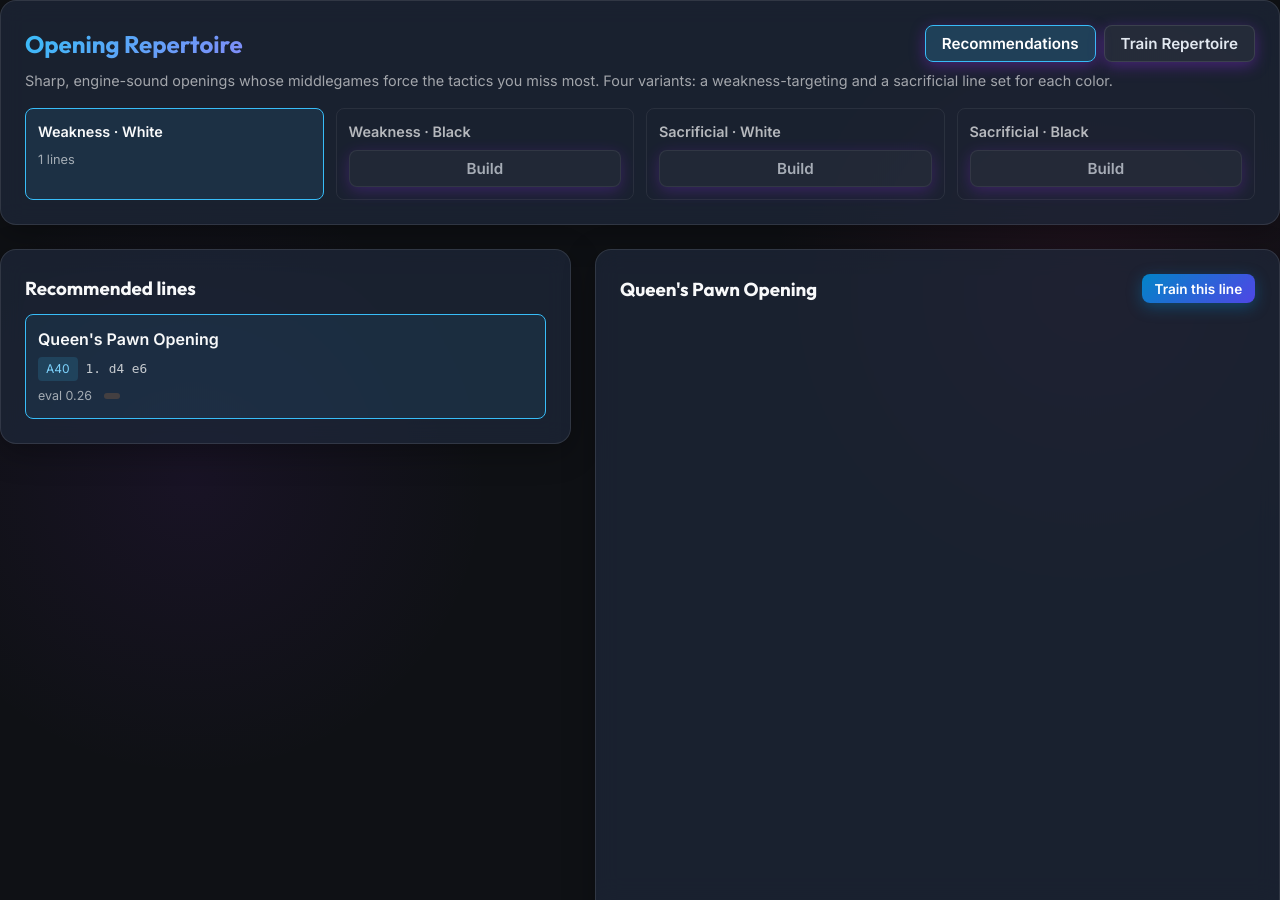
Scenario: RepertoireTrainer Integration & Edge-Case Tests › 2. Renders error message when tree fetch fails
Step 1. Click the button "Train Repertoire" → (1179, 44), box x1=1104 y1=25 x2=1255 y2=62
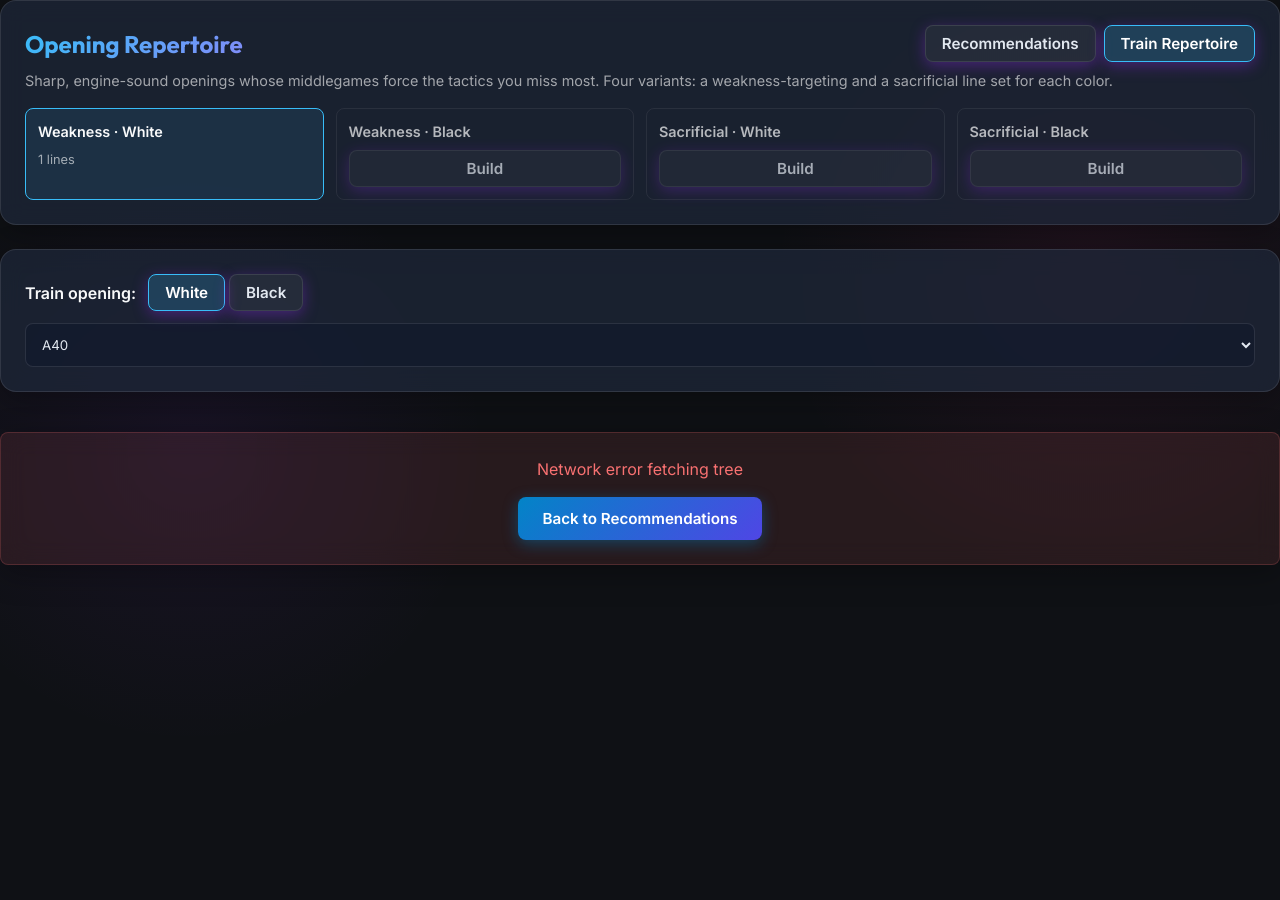
Expected: the text "Network error fetching tree" is shown, x1=537 y1=459 x2=743 y2=479
